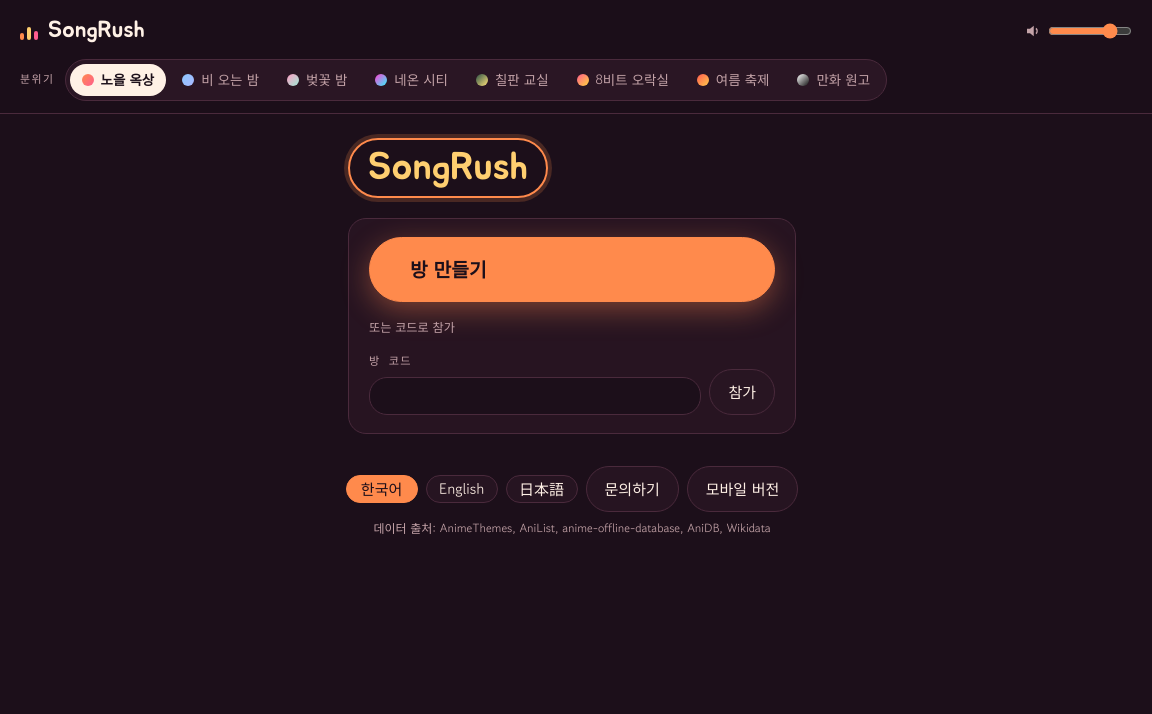
Scenario: own skip vote (B-008) › two quick clicks, only the second refused: skipState{votes:1} then the tagged error leaves 스킵 취소
Type "ABCDE" into the field labelled "방 코드" at (535,396), box [369, 377, 701, 415]
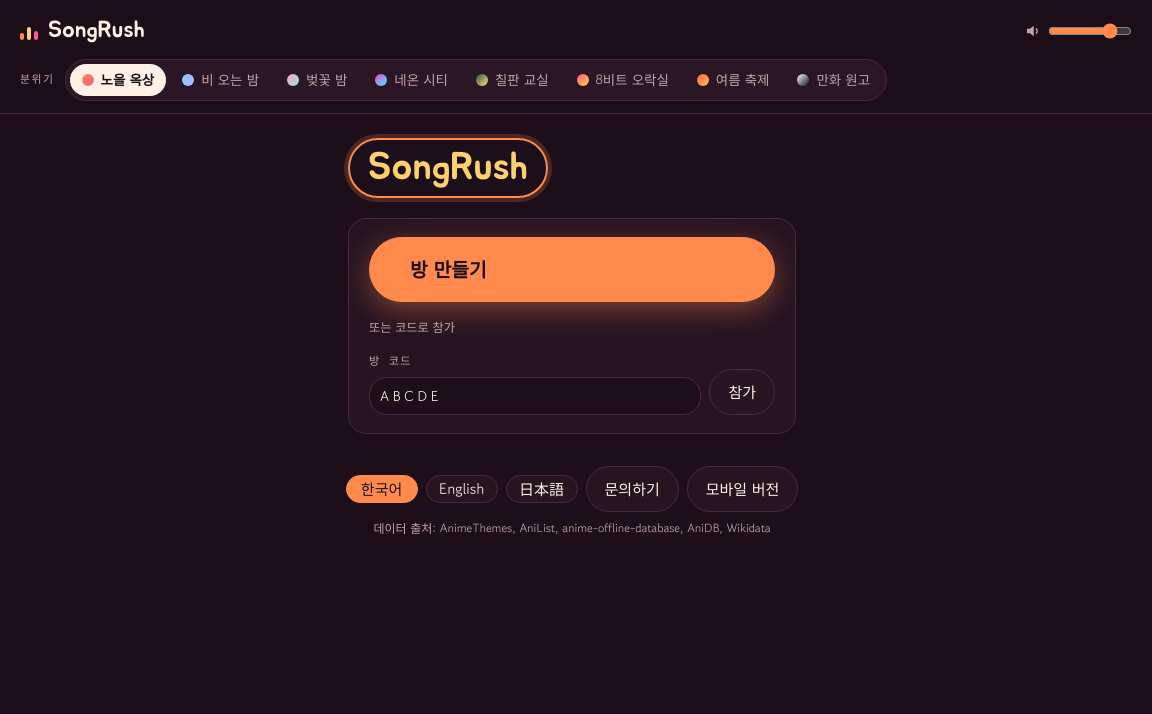
Click the button "참가" at (742,392), box [709, 369, 775, 415]
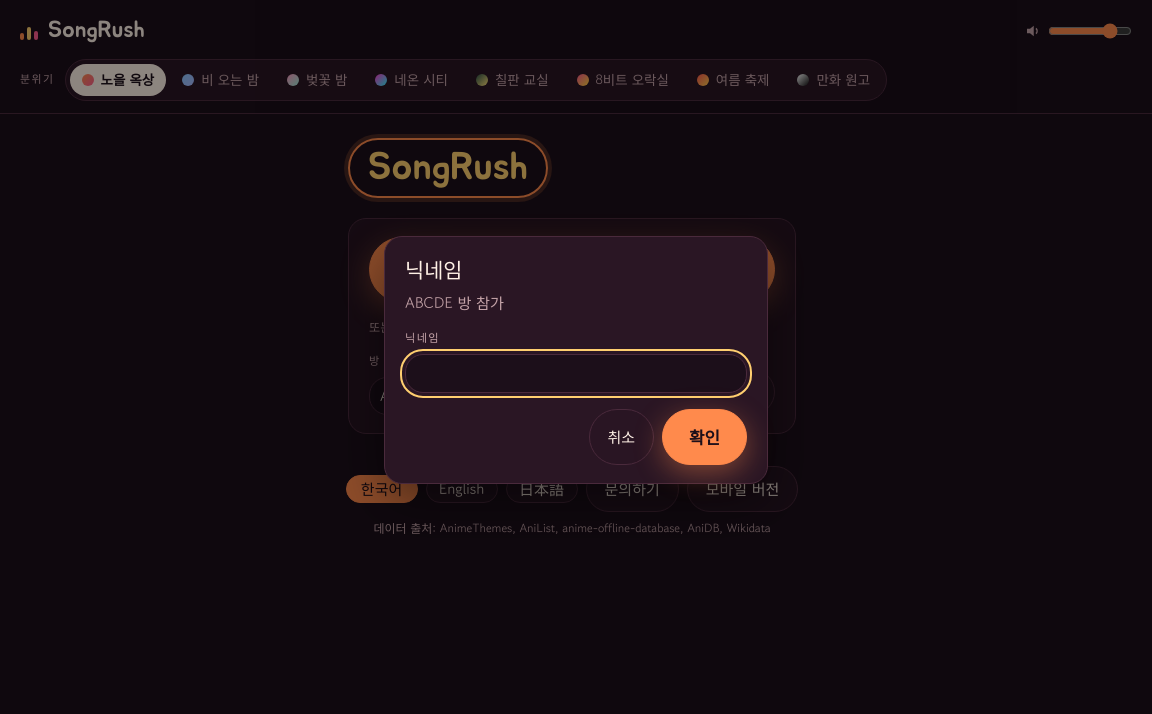
Type "Hana" into the field at (576,373), box [405, 354, 747, 392]
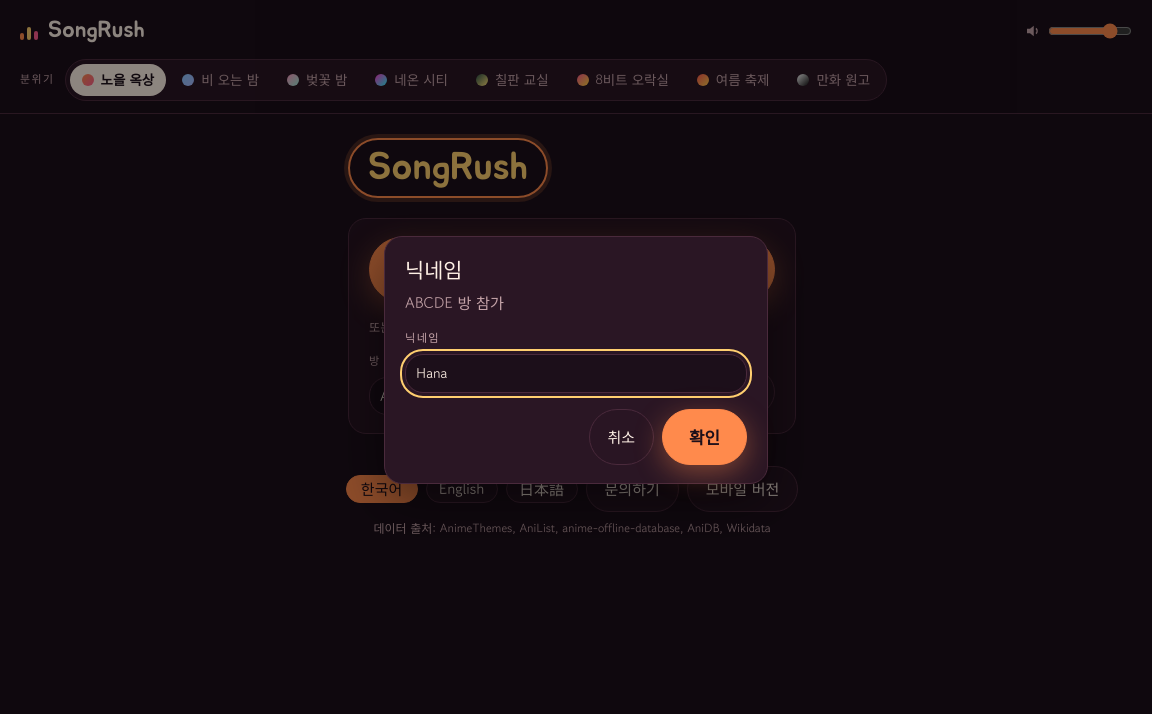
Click the button "확인" at (705,437), box [662, 409, 747, 466]
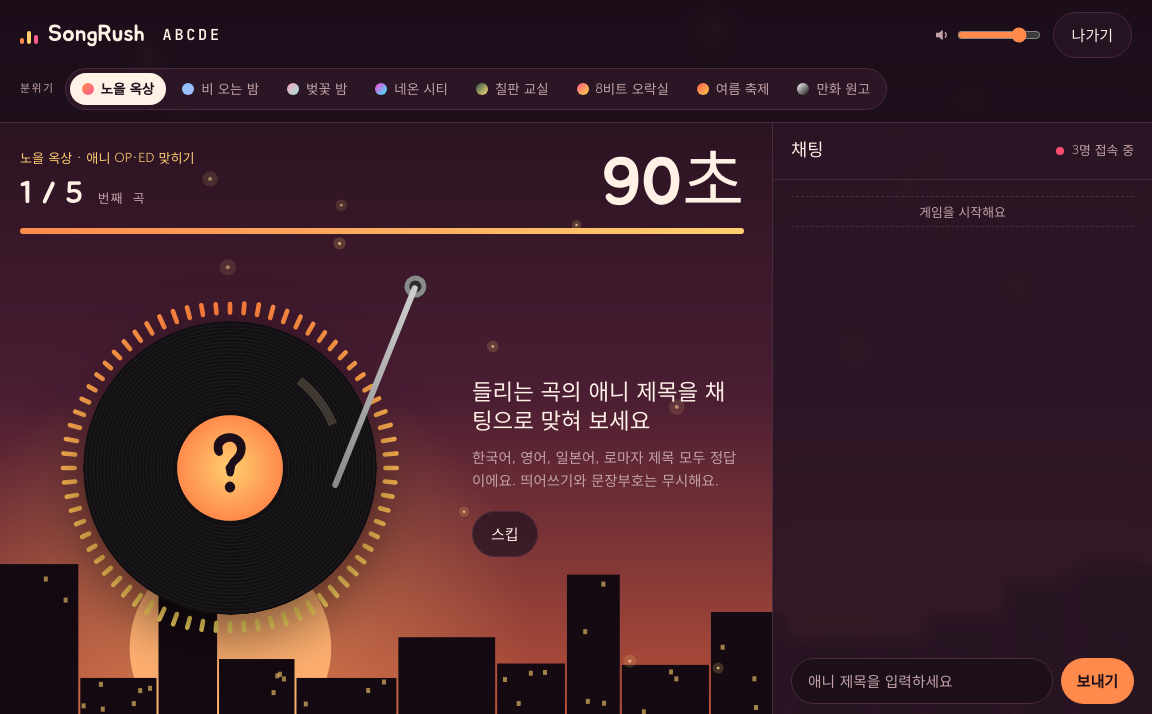
Click the button "스킵" at (505,534), box [472, 511, 538, 557]
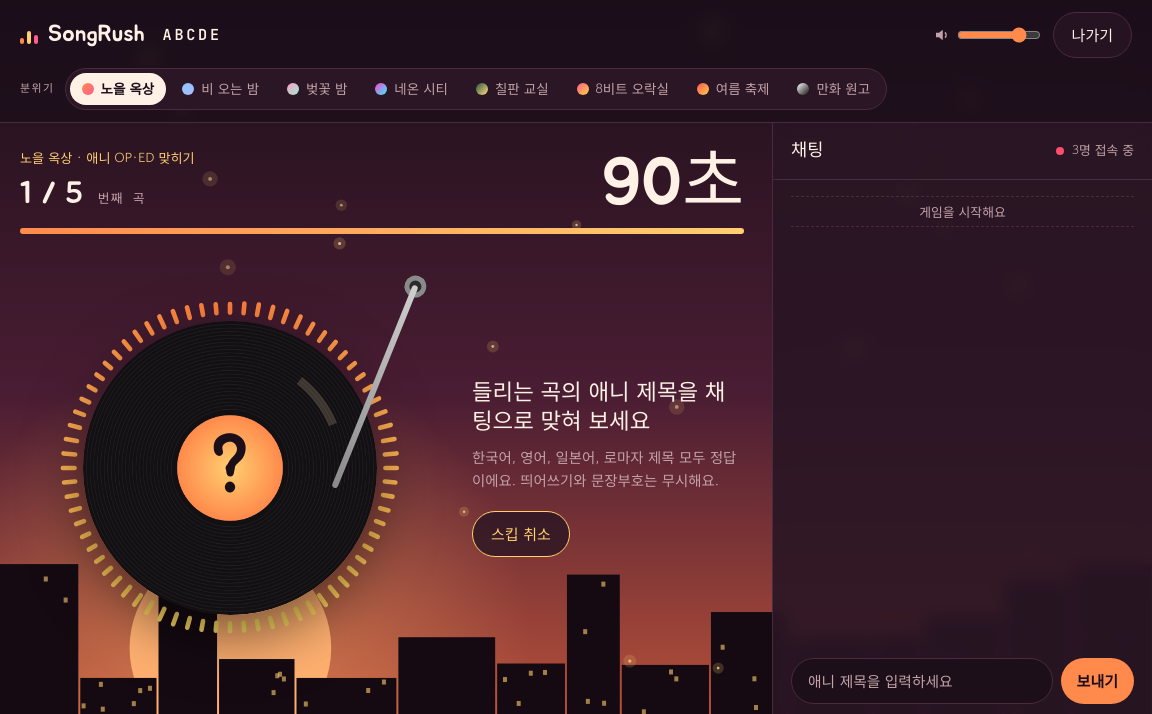
Click the button "스킵 취소" at (521,534), box [472, 511, 570, 557]
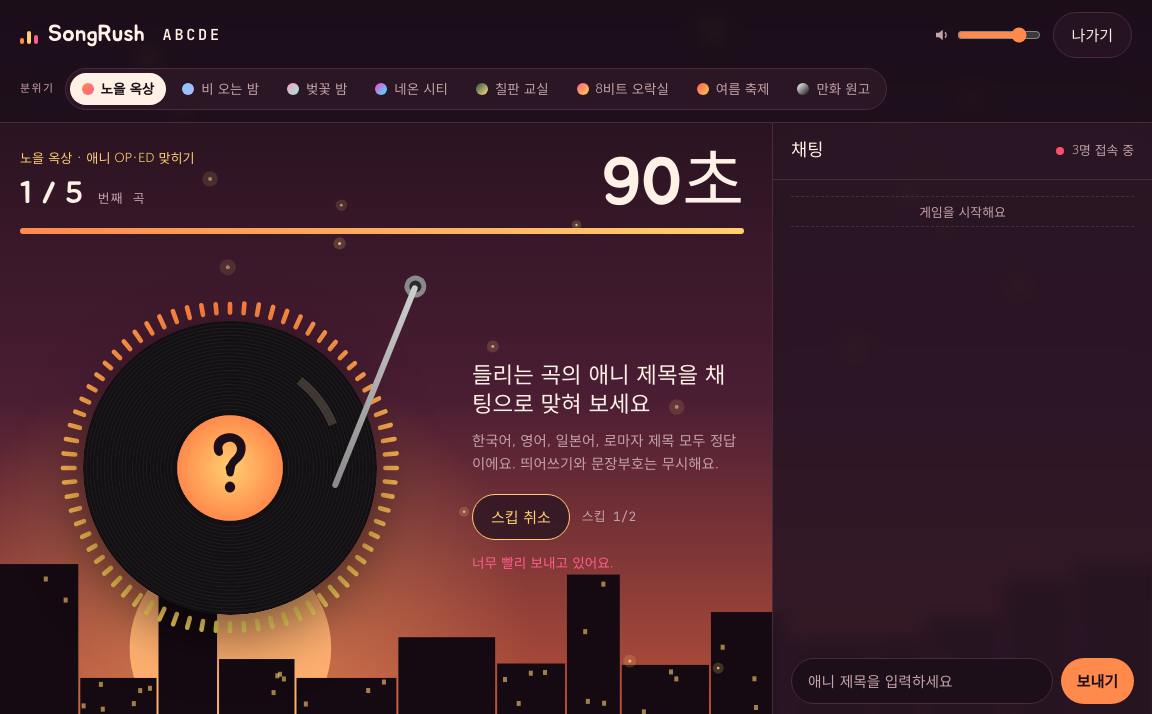
Check: the button "스킵 취소" is shown, box [472, 494, 570, 540]
Check: the text "스킵 1/2" is shown, box [582, 507, 636, 528]
